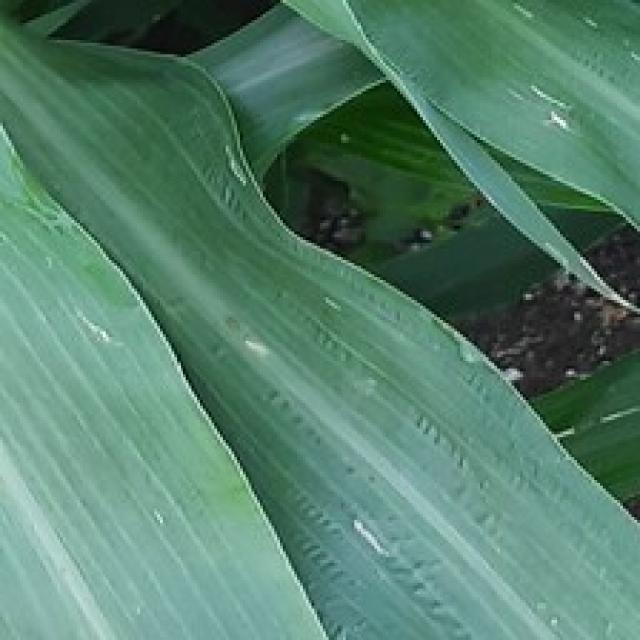Corn: (0, 0, 637, 637), (240, 0, 637, 317)
